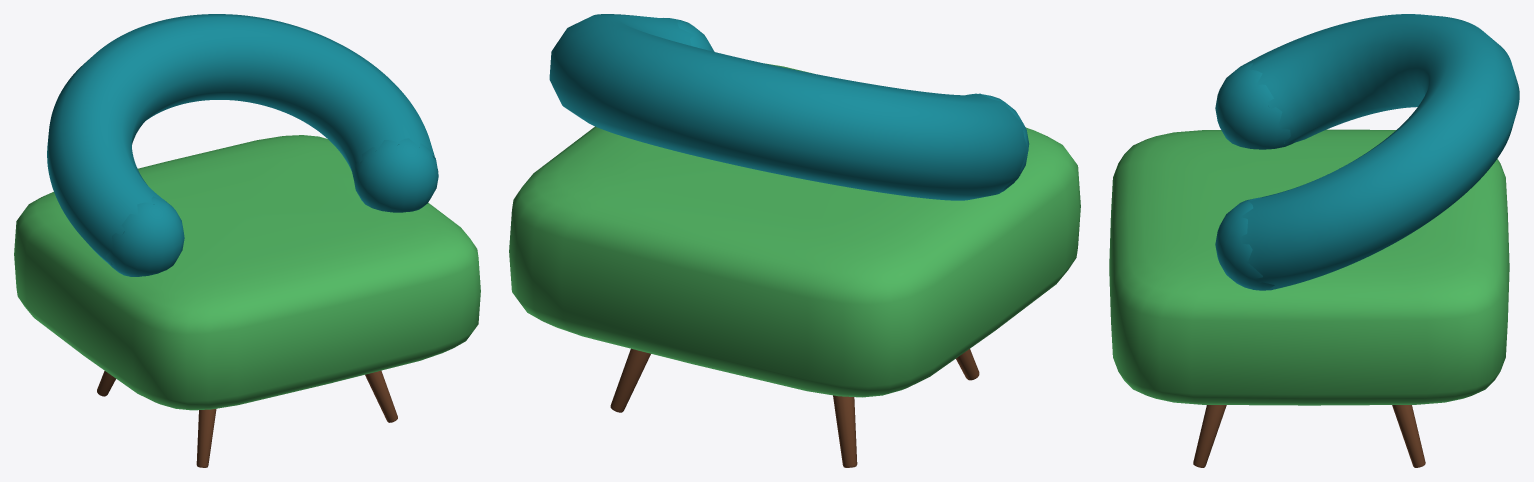
The model's file is poltrona_ferradura_verde.glb.
3 renders of one model, left to right at view 1: azimuth 30°, elevation 25°; view 2: azimuth 150°, elevation 25°; view 3: azimuth 270°, elevation 25°, orthographic. The views are drawn at different scales.
Visible parts, largest first — view 1: poltrona_ferradura_verde; view 2: poltrona_ferradura_verde; view 3: poltrona_ferradura_verde.
Boxes of the visible parts, bbox=[...] form: poltrona_ferradura_verde: bbox=[14, 14, 480, 467]; poltrona_ferradura_verde: bbox=[509, 14, 1080, 467]; poltrona_ferradura_verde: bbox=[1109, 14, 1519, 467].
Size of the model in its own units: 0.8365 by 0.7626 by 0.7793.
Materials: 1 (1 with a texture image).
